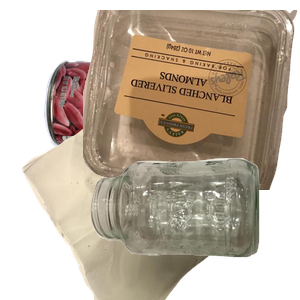glass: (88, 156, 300, 300)
metal: (41, 58, 240, 207)
plastic: (83, 10, 300, 190)
trash: (20, 120, 260, 300)
